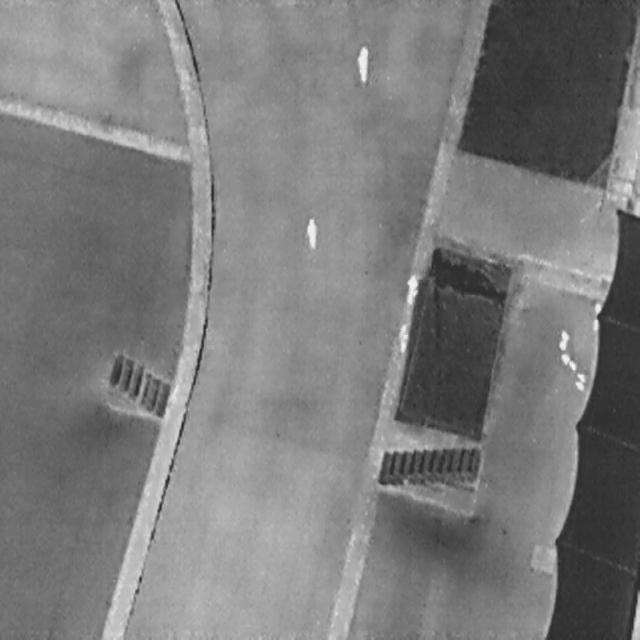Person: (403, 270, 419, 306), (356, 43, 369, 85), (304, 215, 319, 249), (398, 321, 408, 351)
